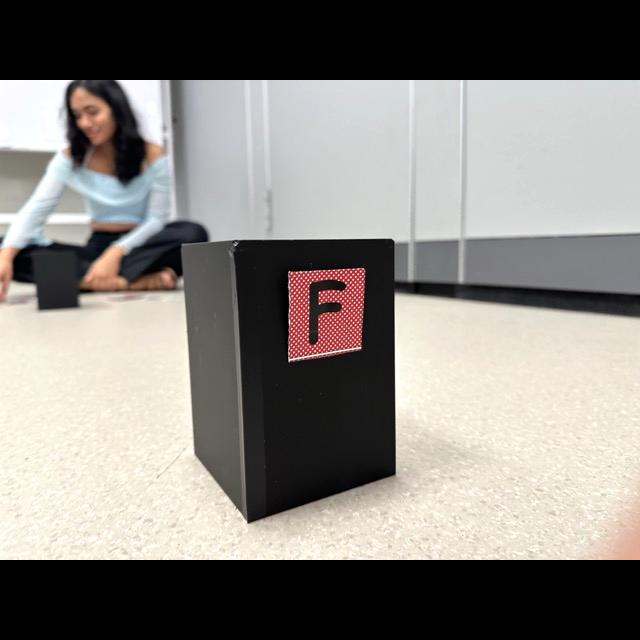F: (308, 279, 346, 344)
